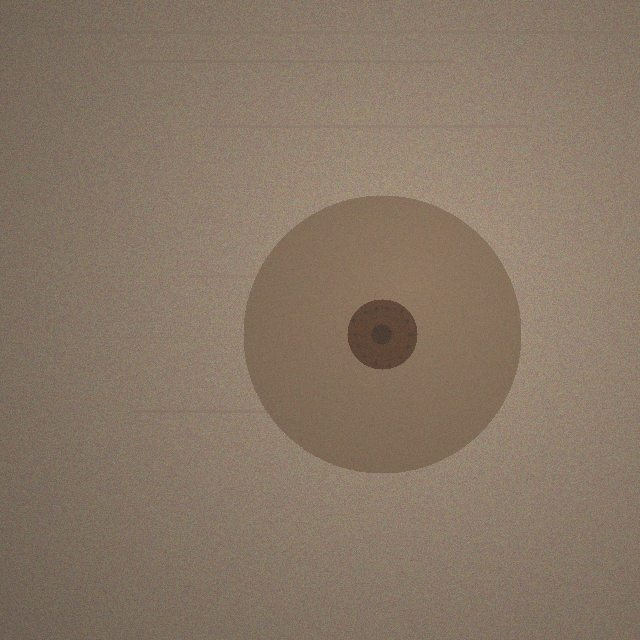cold_weld: (243, 195, 521, 473)
